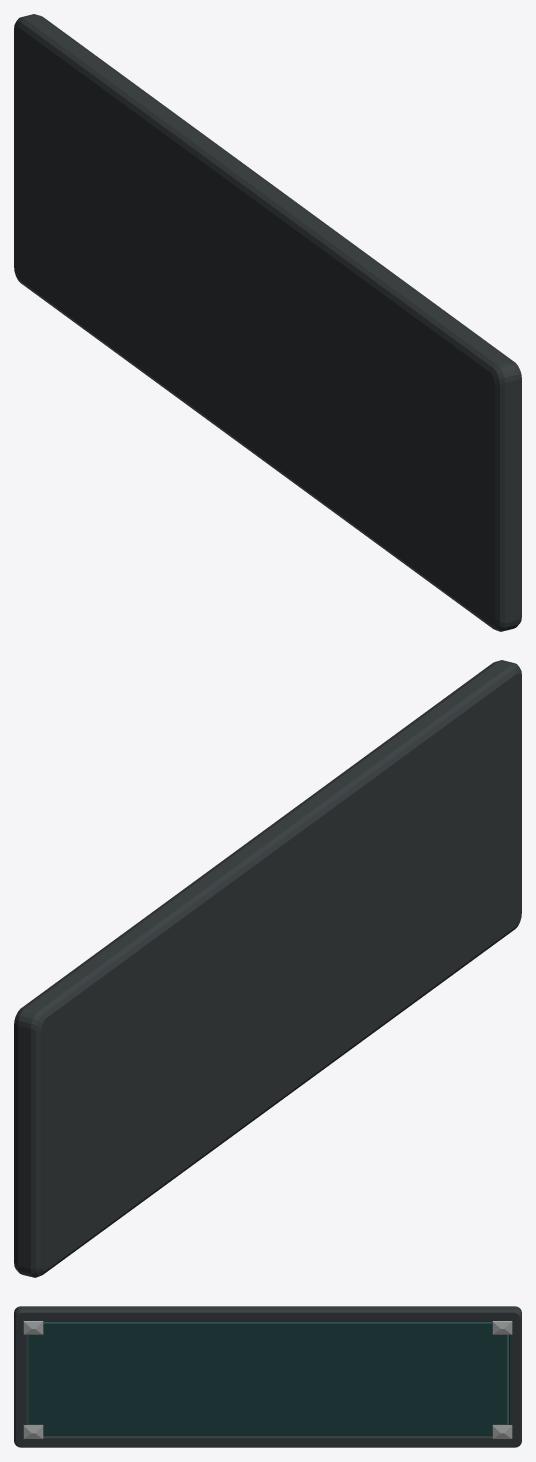
The model's file is SM_LabDoorPlaque.fbx.
The picture shows the model from 3 angles, top to bottom: view 1: azimuth 30°, elevation 25°; view 2: azimuth 150°, elevation 25°; view 3: azimuth 270°, elevation 25°; orthographic projection. The views are drawn at different scales.
Visible parts, largest first — view 1: SM_LabDoorPlaque; view 2: SM_LabDoorPlaque; view 3: SM_LabDoorPlaque.
Boxes of the visible parts, bbox=[...] form: SM_LabDoorPlaque: bbox=[14, 14, 521, 631]; SM_LabDoorPlaque: bbox=[14, 660, 521, 1277]; SM_LabDoorPlaque: bbox=[14, 1306, 521, 1447].
Size of the model in its own units: 0.0209 by 0.6 by 0.18.
